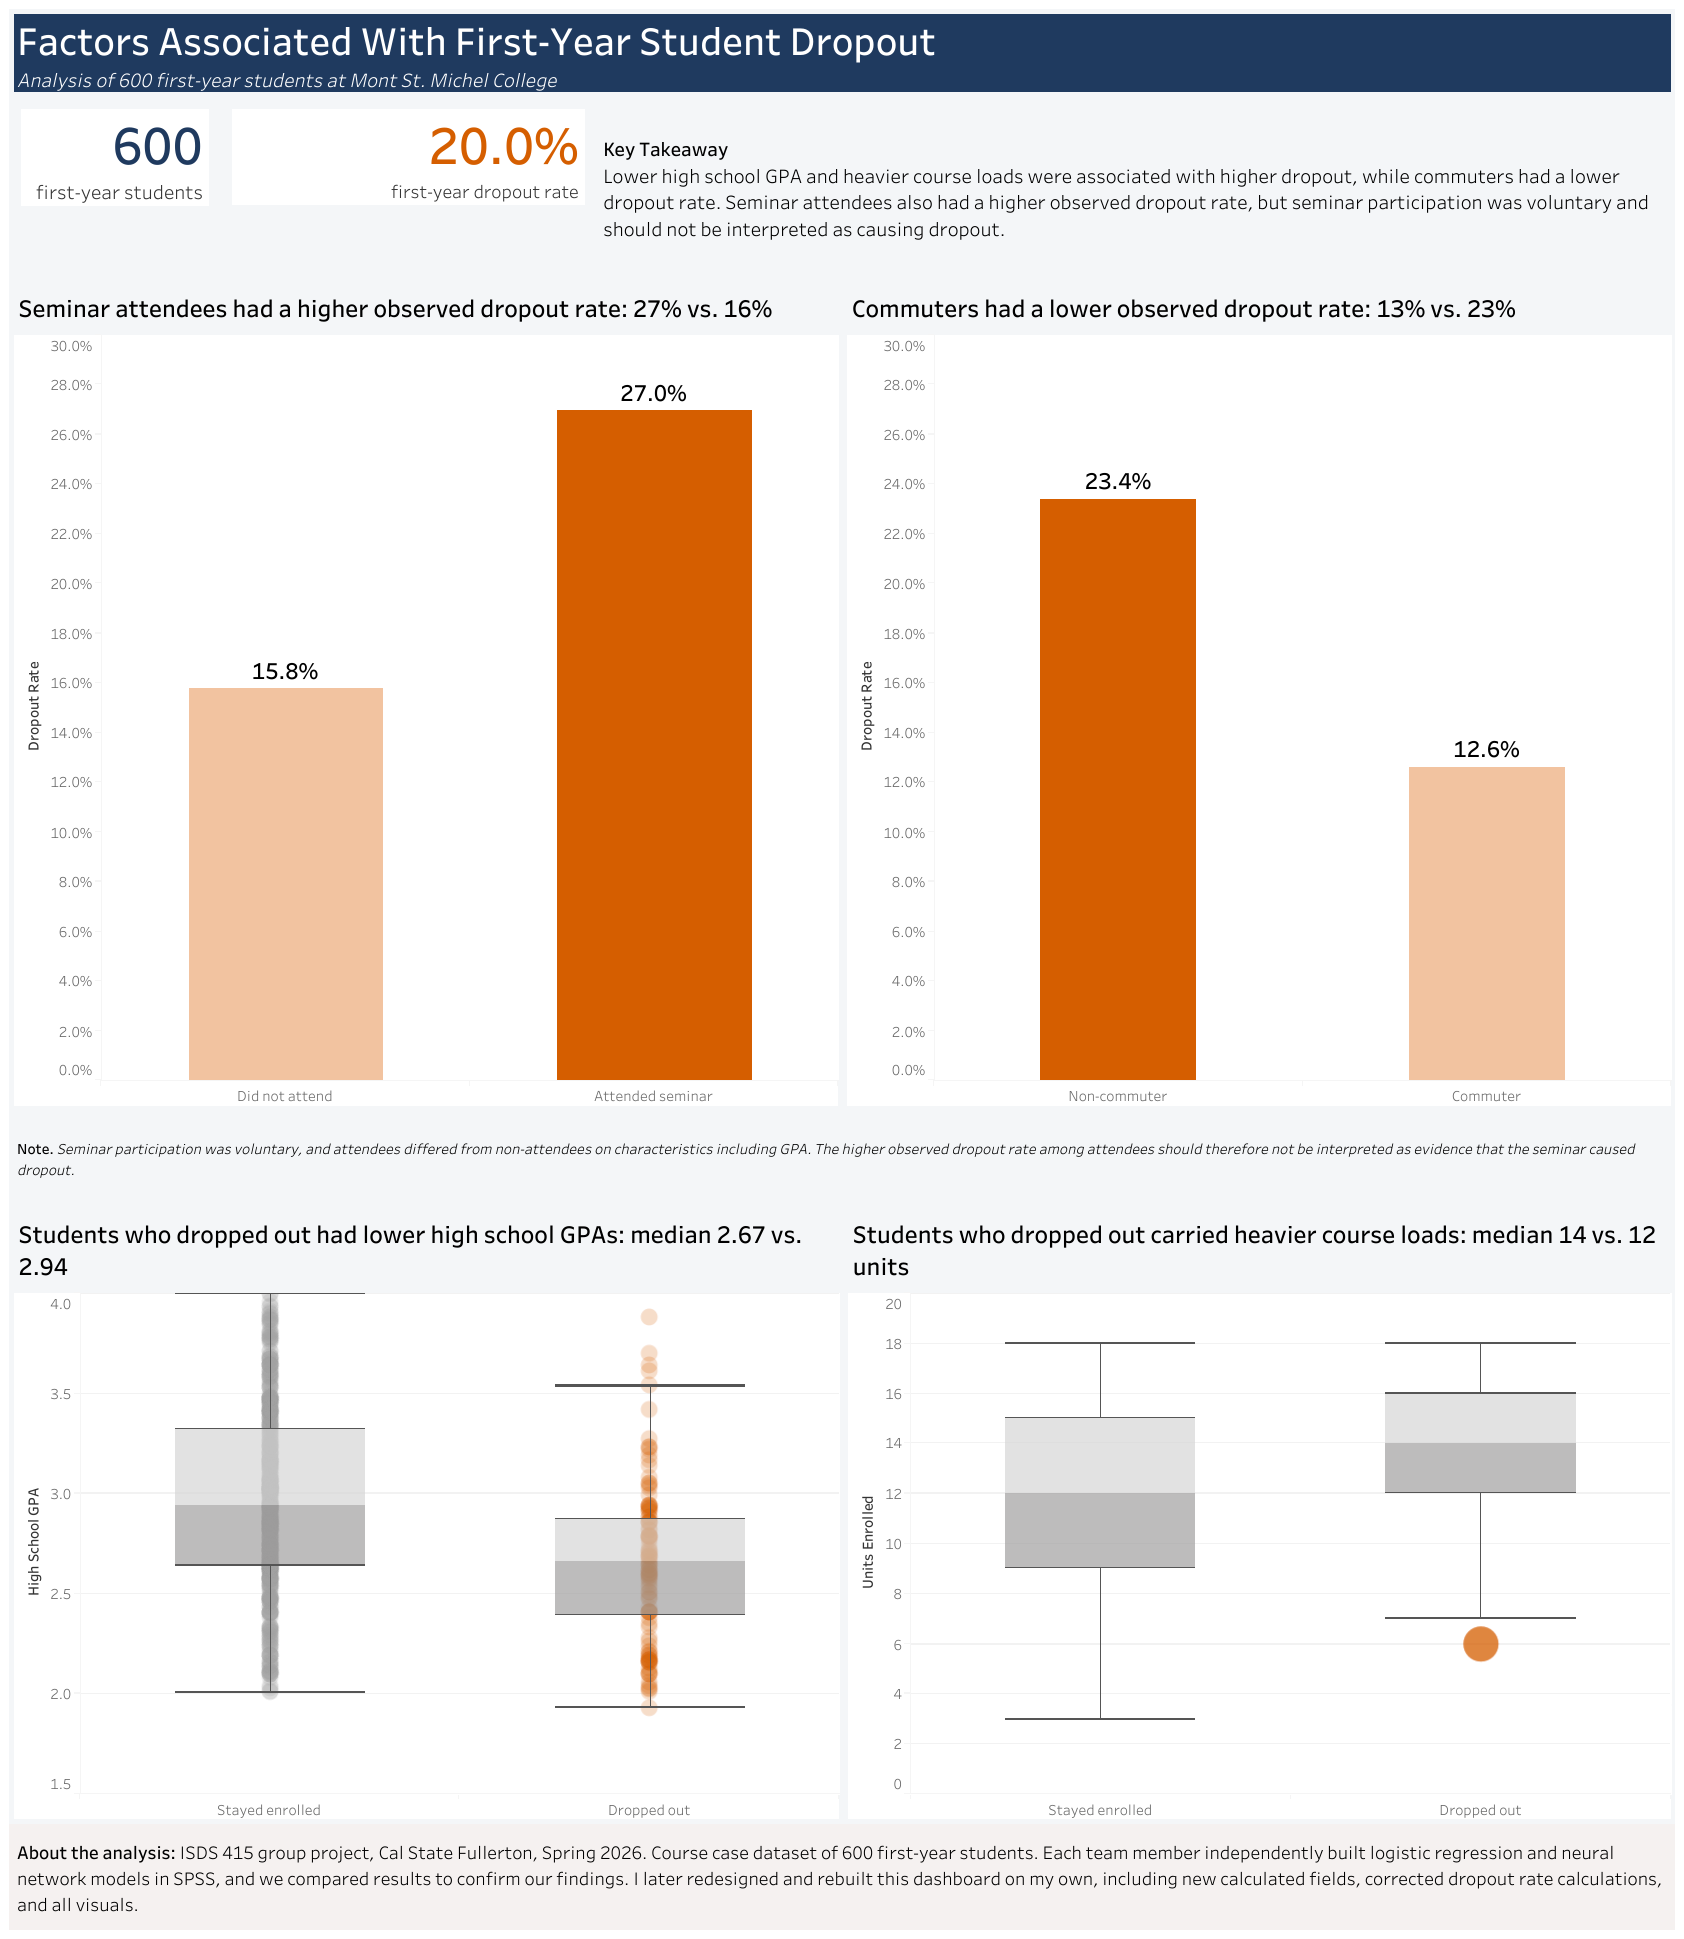

The page's visual inventory and layout, read from the dashboard file:
{"tool":"tableau","page":{"name":"Dropout Findings","canvas":[1440,1658],"ordinal":0},"visuals":[{"type":"text","box":[8,8,1424,108]},{"type":"worksheet","title":"KPI Students","mark":"Automatic","box":[8,116,260,156]},{"type":"worksheet","title":"KPI Dropout Rate","mark":"Automatic","box":[268,116,321,156]},{"type":"text","box":[589,116,843,156]},{"type":"worksheet","title":"Seminar vs Dropout","mark":"Automatic","rows":["Calculation_0747164255289344"],"cols":["Seminar_Attended"],"box":[8,272,712,677.1]},{"type":"worksheet","title":"Commuter vs Dropout","mark":"Automatic","rows":["Calculation_0747164255289344"],"cols":["Commuter_Student"],"box":[720,272,712,677.1]},{"type":"text","box":[8,949.1,1424,81.3]},{"type":"worksheet","title":"GPA vs Dropout","mark":"Circle","rows":["HS_GPA"],"cols":["Dropped_out"],"box":[8,1030.4,714.5,528.6]},{"type":"worksheet","title":"Units vs Dropout","mark":"Circle","rows":["Unit_Enrolled"],"cols":["Dropped_out"],"box":[722.5,1030.4,709.5,528.6]},{"type":"text","box":[8,1559,1424,91]}]}

Visuals, with their boxes in screenshot pixels (x1, y1, x2, y2), scaled from the page's 1440x1658 canvas onto the 1684x1939 screenshot:
text: <bbox>9, 9, 1675, 136</bbox>
"KPI Students" worksheet: <bbox>9, 136, 313, 318</bbox>
"KPI Dropout Rate" worksheet: <bbox>313, 136, 689, 318</bbox>
text: <bbox>689, 136, 1675, 318</bbox>
"Seminar vs Dropout" worksheet: <bbox>9, 318, 842, 1110</bbox>
"Commuter vs Dropout" worksheet: <bbox>842, 318, 1675, 1110</bbox>
text: <bbox>9, 1110, 1675, 1205</bbox>
"GPA vs Dropout" worksheet (Circle marks): <bbox>9, 1205, 845, 1823</bbox>
"Units vs Dropout" worksheet (Circle marks): <bbox>845, 1205, 1675, 1823</bbox>
text: <bbox>9, 1823, 1675, 1930</bbox>
